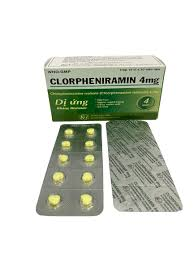Clorpheniramin: (47, 76, 137, 87)
